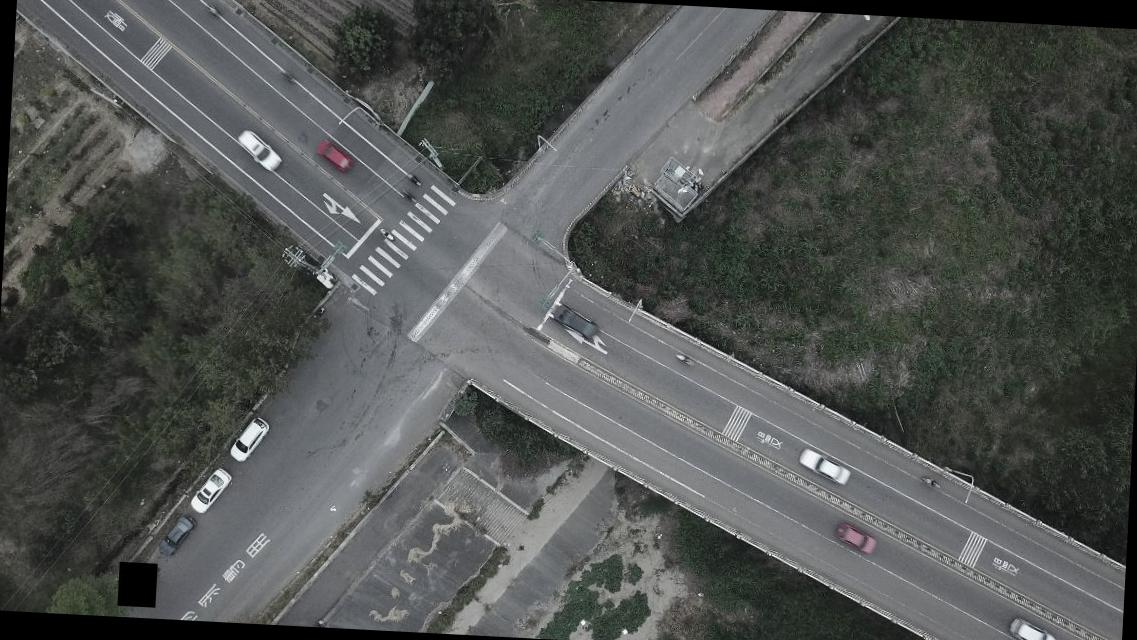vehicle: (794, 448, 852, 487), (545, 300, 600, 340), (190, 464, 230, 516), (235, 126, 282, 170), (228, 416, 268, 462), (157, 513, 195, 558), (830, 522, 878, 554), (1003, 613, 1059, 639), (314, 138, 352, 176)
